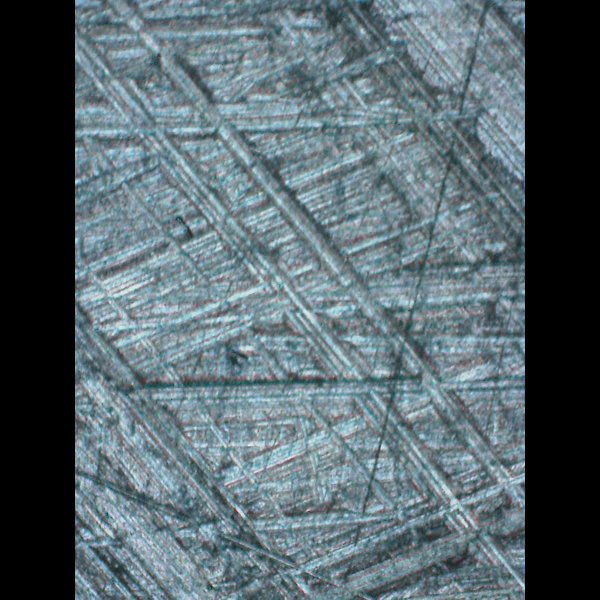d: (94, 54, 506, 533)
